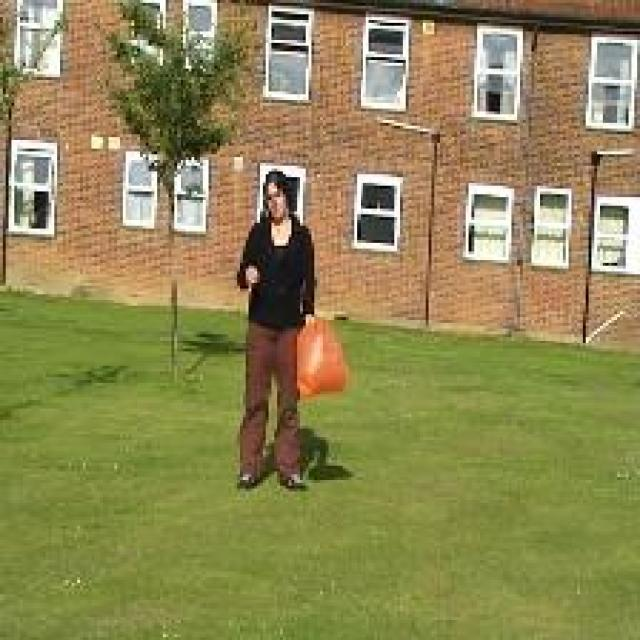other: (293, 303, 352, 400)
